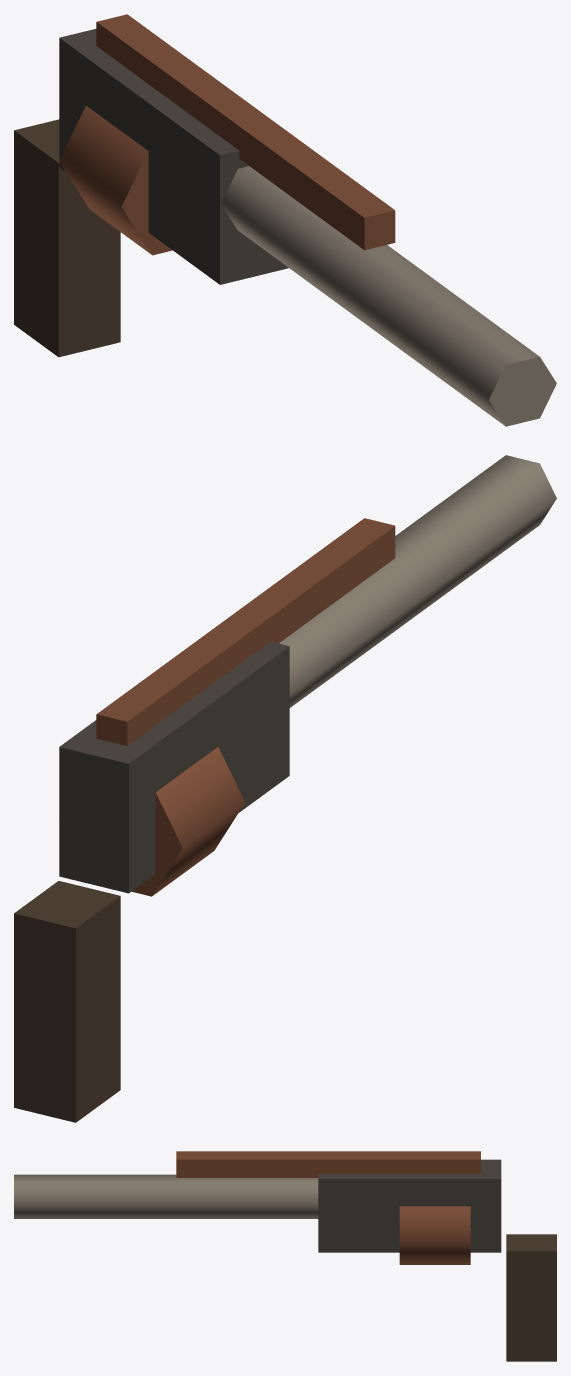
The picture shows the model from 3 angles, top to bottom: view 1: azimuth 30°, elevation 25°; view 2: azimuth 150°, elevation 25°; view 3: azimuth 270°, elevation 25°; orthographic projection. The views are drawn at different scales.
Parts seen in each view (by area): view 1: raider_weapon_scrap_revolver; view 2: raider_weapon_scrap_revolver; view 3: raider_weapon_scrap_revolver.
Part boxes in pixels (x1,y1,x2,y2): raider_weapon_scrap_revolver: (14, 14, 556, 426); raider_weapon_scrap_revolver: (14, 455, 556, 1122); raider_weapon_scrap_revolver: (14, 1151, 556, 1361).
Size of the model in its own units: 0.08 by 0.215 by 0.535.
